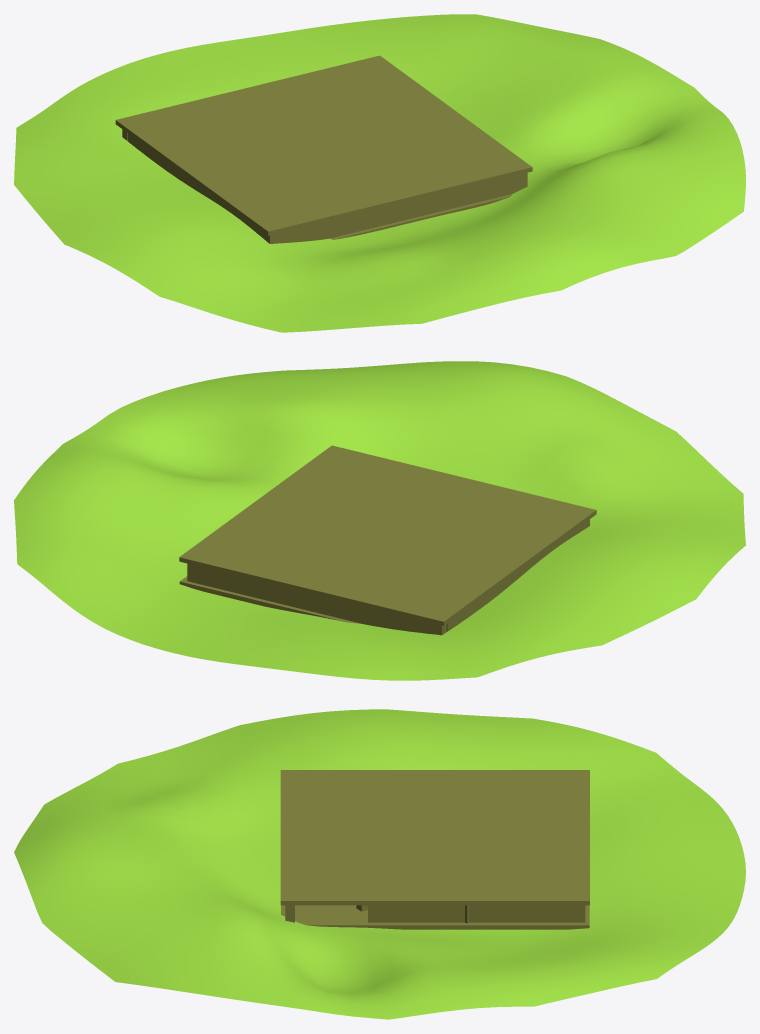
Rendered from level.glb.
3 views of the same model, one above another, from view 1: azimuth 30°, elevation 25°; view 2: azimuth 150°, elevation 25°; view 3: azimuth 270°, elevation 25° (orthographic).
Visible parts, largest first — view 1: Plane, Cube.018; view 2: Plane, Cube.018; view 3: Plane, Cube.018.
Boxes of the visible parts, x1=… form: Plane: x1=14, y1=14, x2=745, y2=332; Cube.018: x1=115, y1=55, x2=532, y2=243; Plane: x1=14, y1=361, x2=745, y2=680; Cube.018: x1=179, y1=445, x2=596, y2=635; Plane: x1=14, y1=709, x2=745, y2=1019; Cube.018: x1=280, y1=770, x2=589, y2=929.
Bounding box in the file's own units: 214 × 14.4 × 212.
